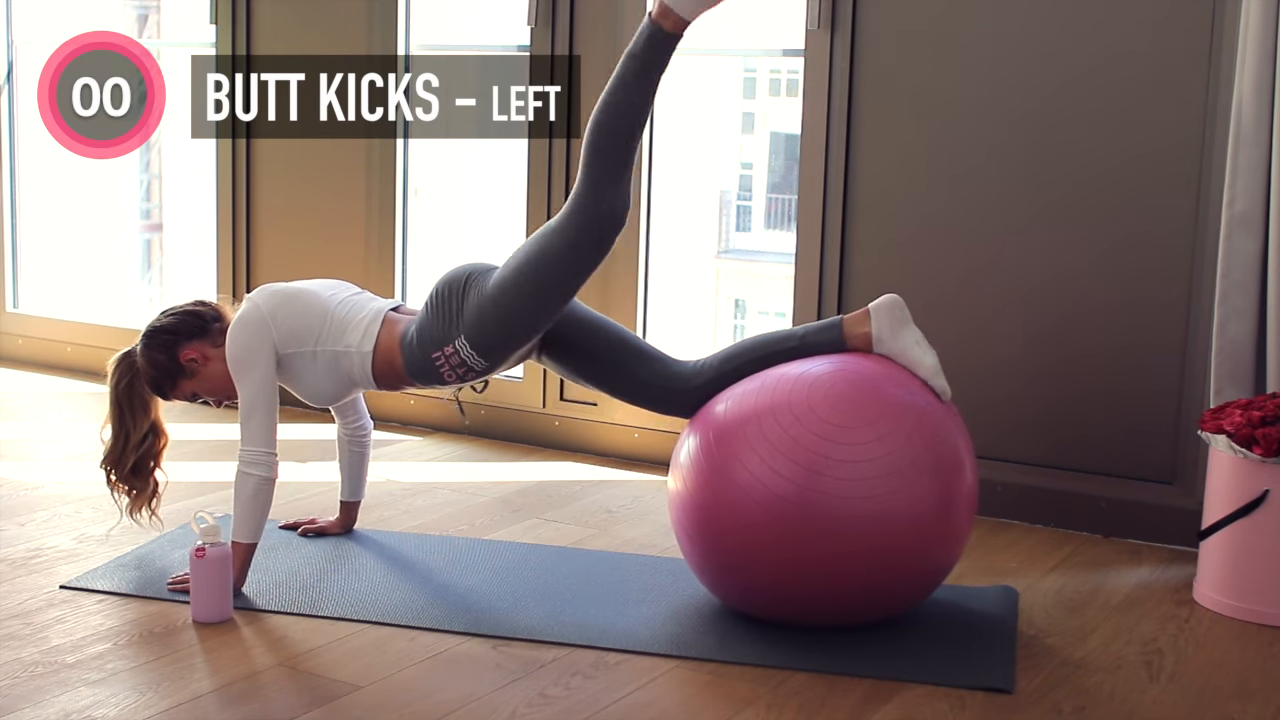yogaball: (656, 346, 985, 645)
